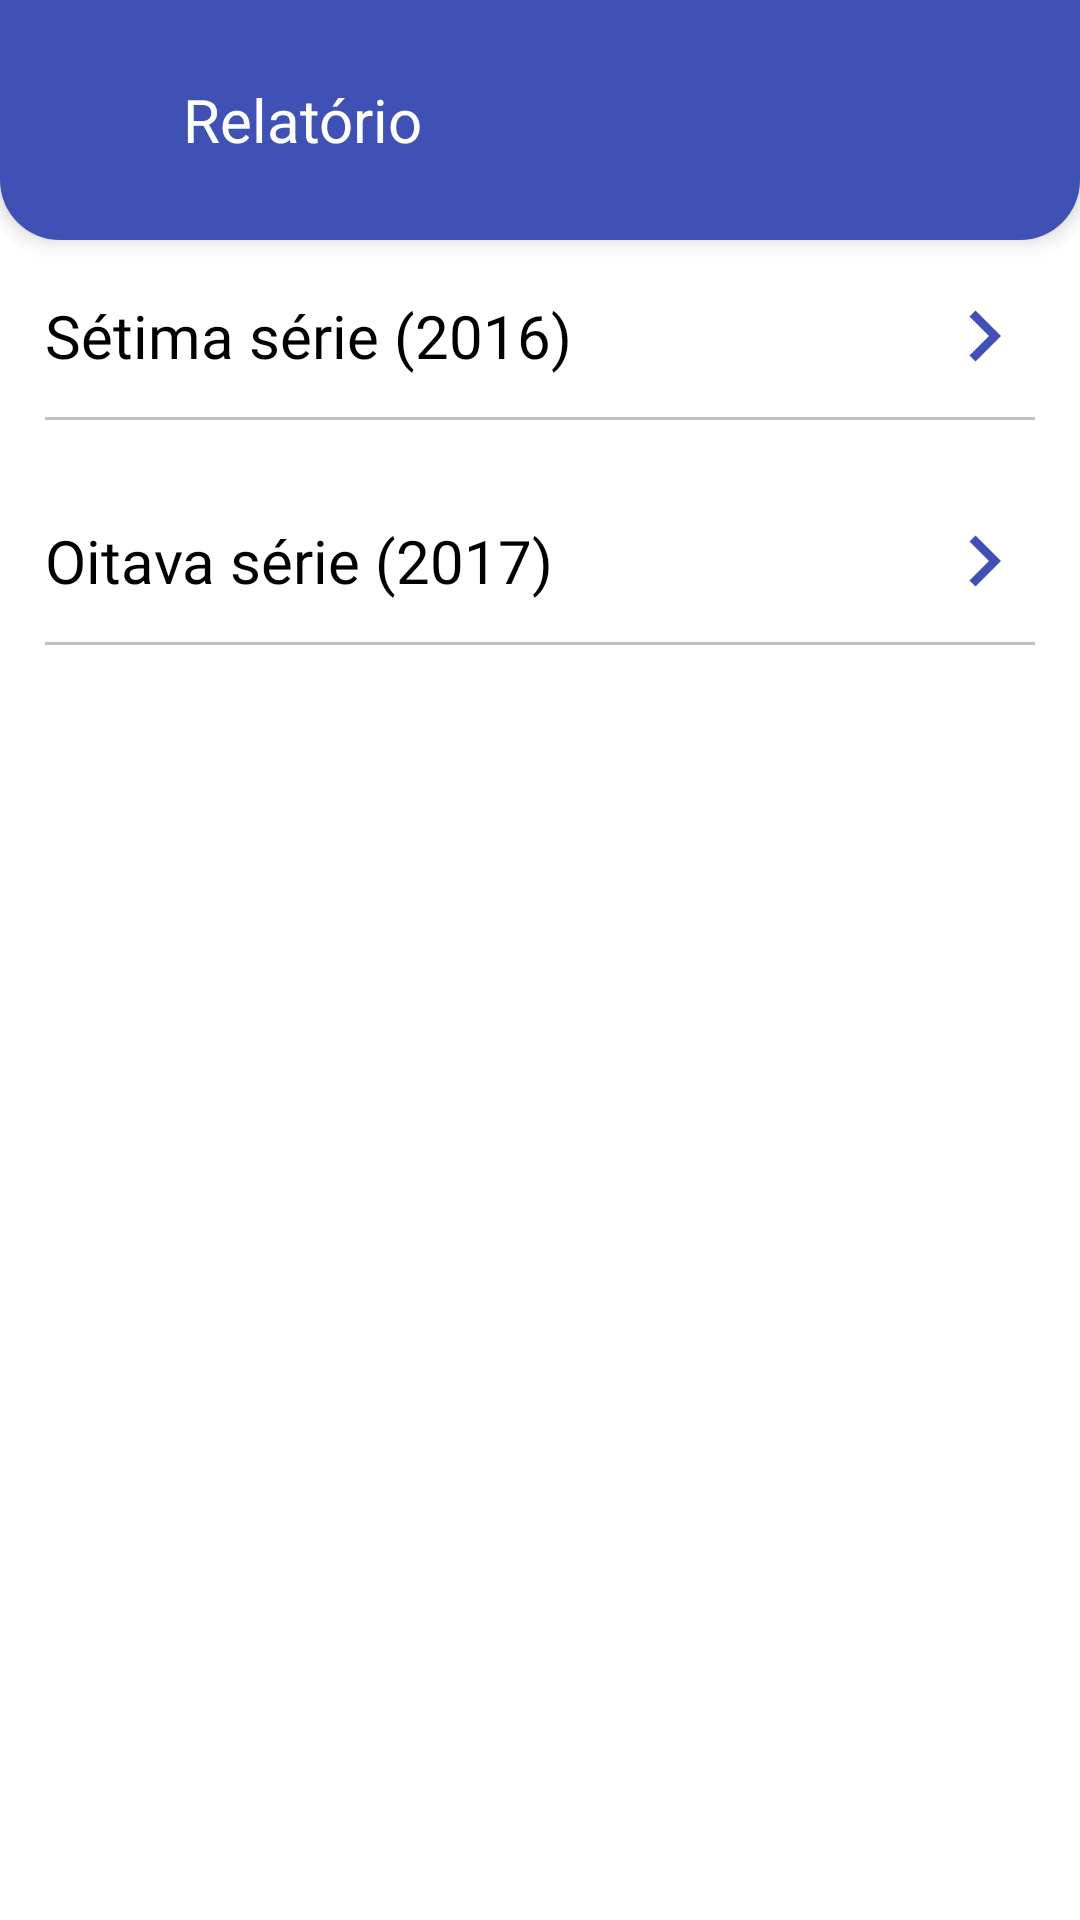

Named icons in this screenshot (1080*1920) and their centers, (x=x, y=y):
arrow right: (x=985, y=336), (x=985, y=561)
